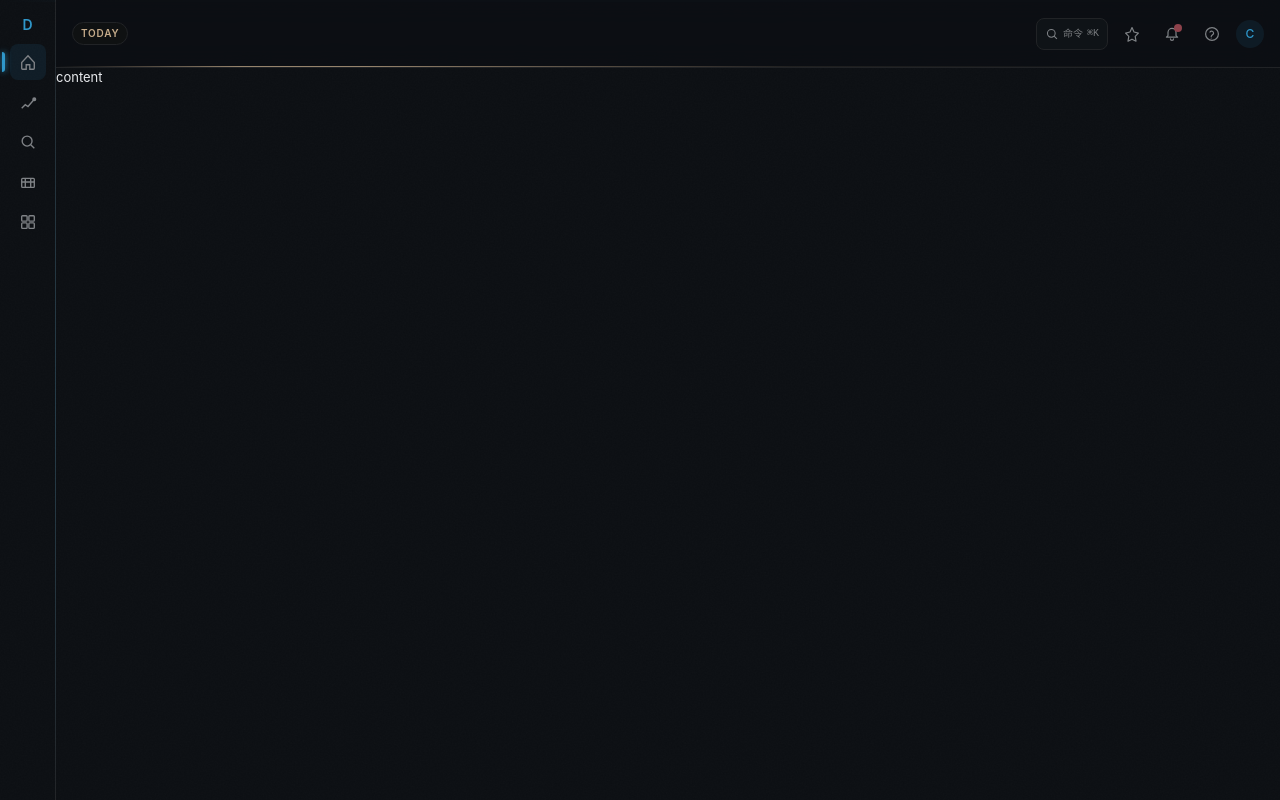
it: Agent launcher sidecar › opens the governed entry, exposes canonical task links, and returns focus
Click the button named "打开 Agent 工作入口" at (1132, 34), box [1116,18,1148,50]
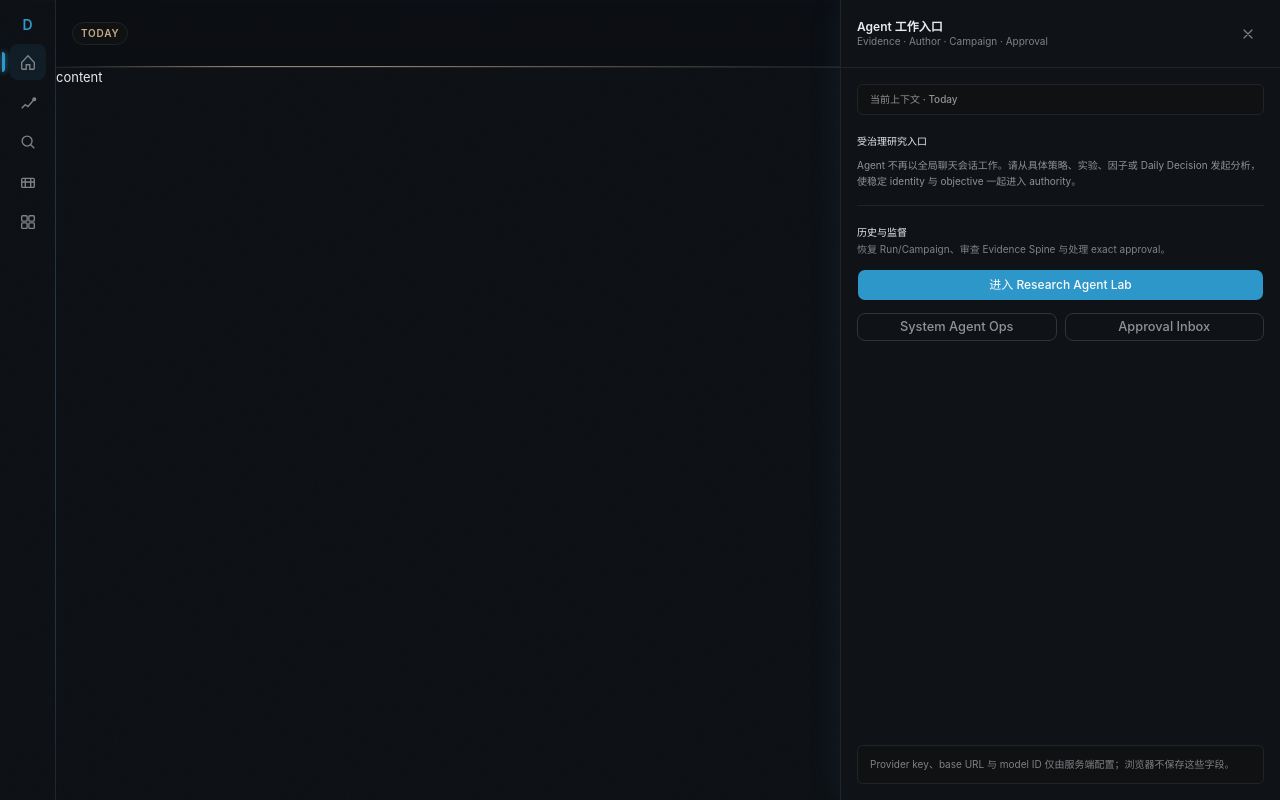
Check: the dialog "Agent 工作入口" is shown, box [840,0,1279,799]
Click the button named "关闭 Agent 工作入口" at (1248, 34), box [1232,18,1264,50]
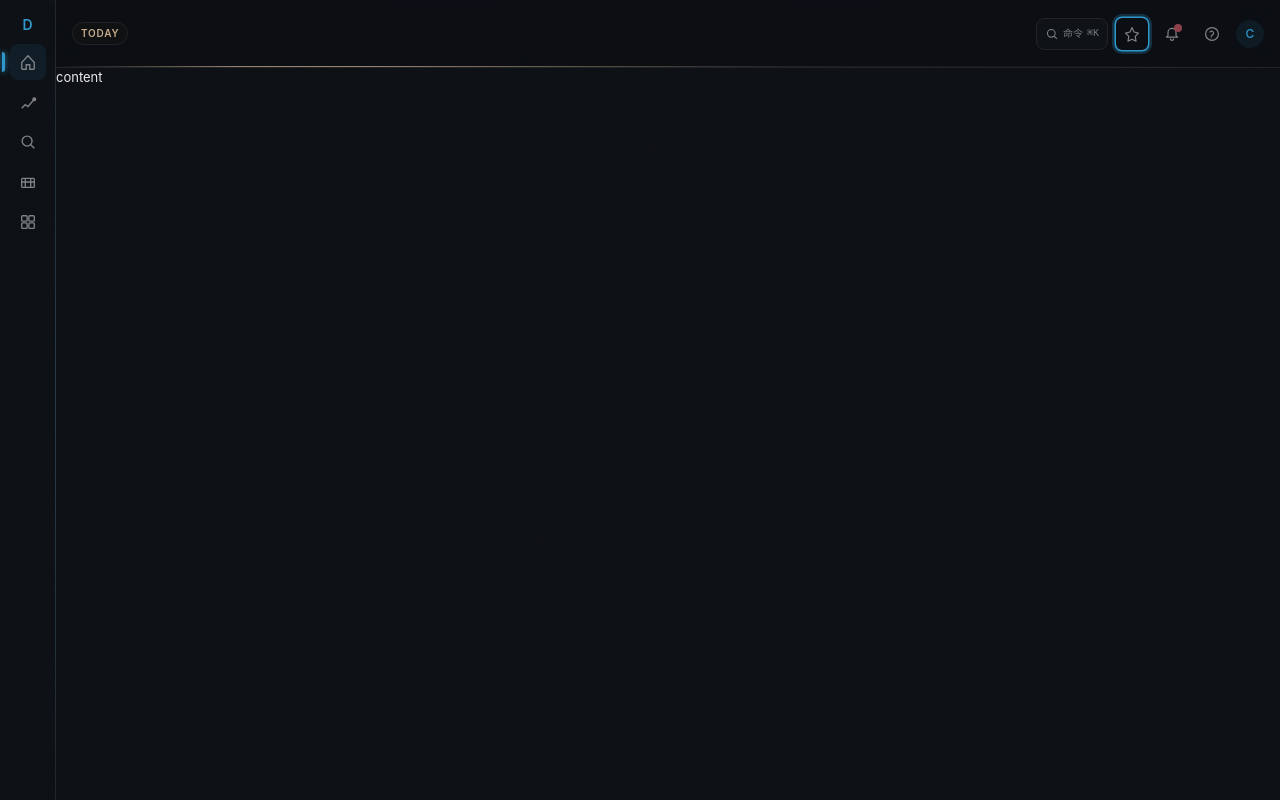
Check: the heading "Agent 工作入口" is gone
